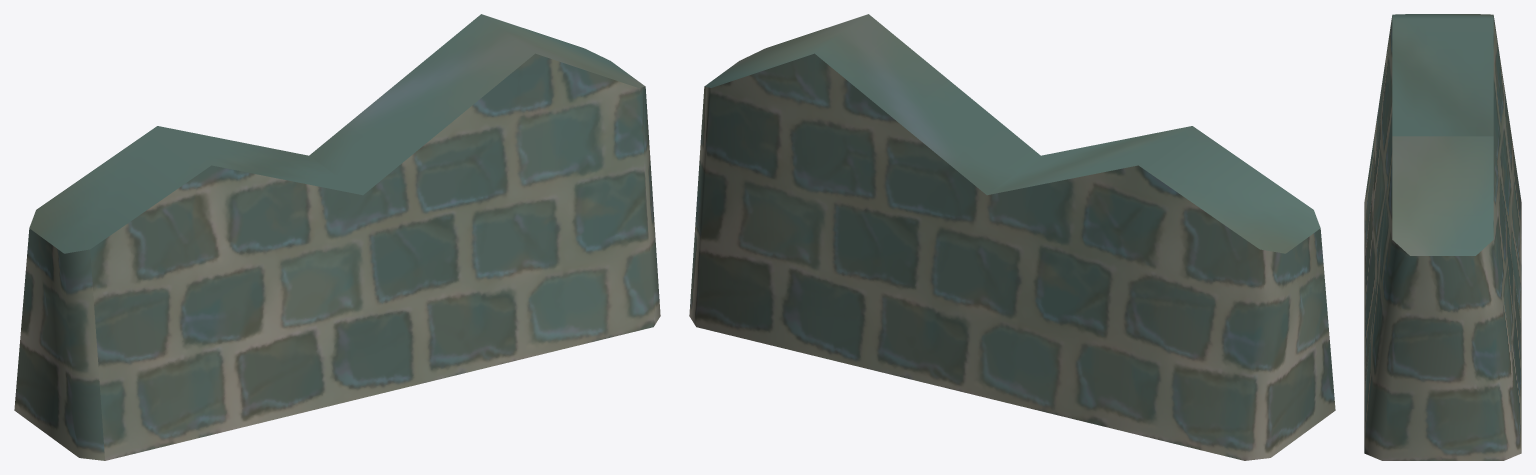
The model's file is HalfWall_Broken_02.fbx.
The picture shows the model from 3 angles, left to right: view 1: azimuth 30°, elevation 25°; view 2: azimuth 150°, elevation 25°; view 3: azimuth 270°, elevation 25°; orthographic projection. The views are drawn at different scales.
Parts seen in each view (by area): view 1: Cube.026; view 2: Cube.026; view 3: Cube.026.
Part boxes in pixels (<box>): Cube.026: <box>14,14,660,460</box>; Cube.026: <box>689,14,1335,460</box>; Cube.026: <box>1364,14,1521,460</box>.
Bounding box in the file's own units: 400 × 189 × 100.
